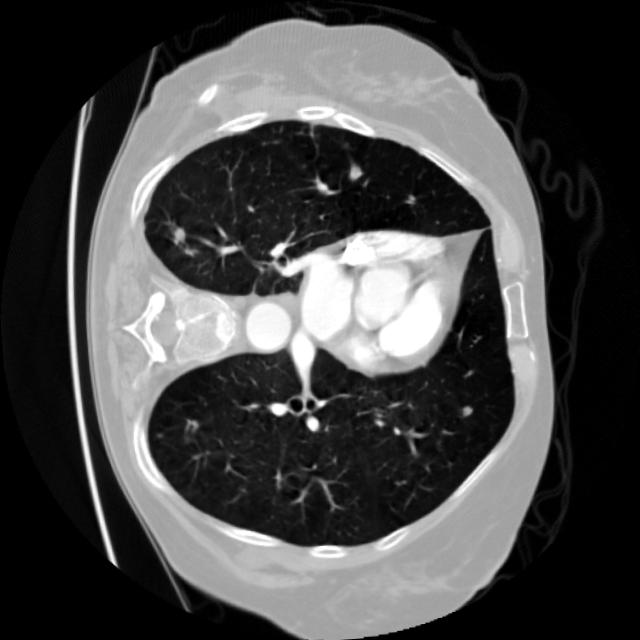nodule: (162, 216, 194, 248)
